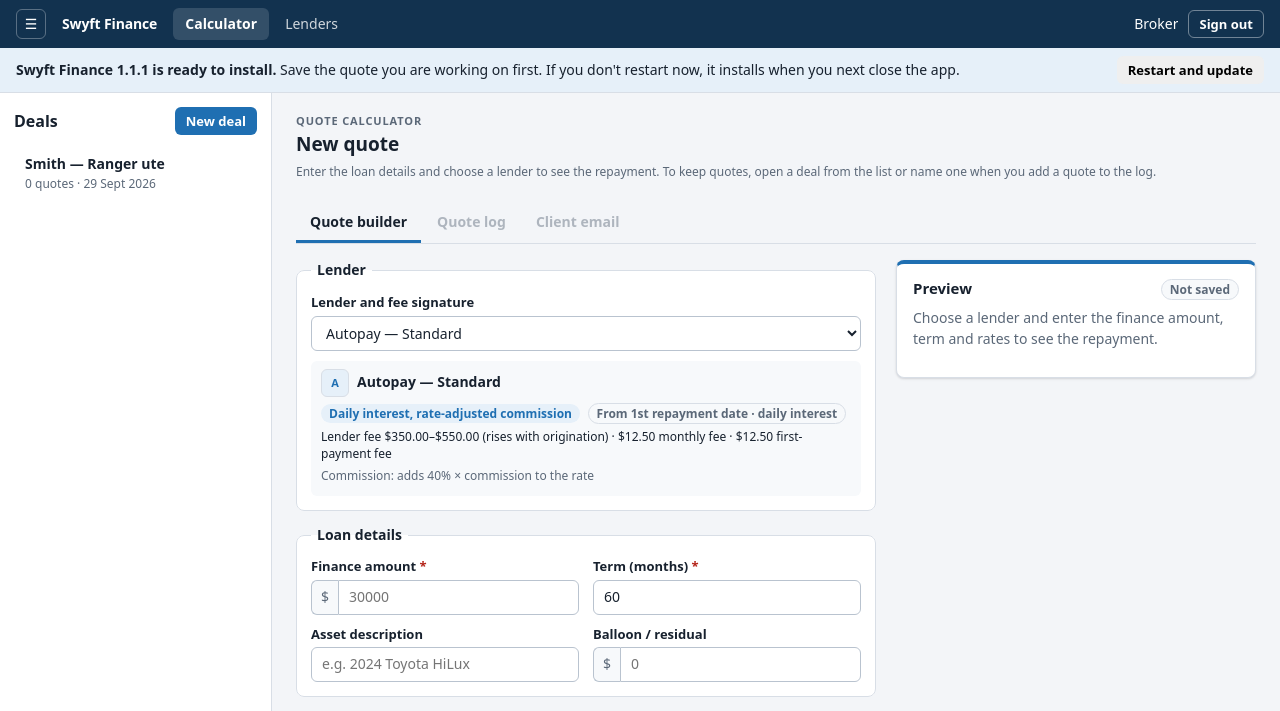
Test case: application menu commands › shows a downloaded update and installs it only when asked
Expected: the heading "New quote" is shown, [296,131,399,157]
Expected: the text "Swyft Finance 1.1.1 is ready to install." is shown, [16,60,276,79]
Click the button "Restart and update" at coordinates (1190, 70), box [1117,56,1264,84]
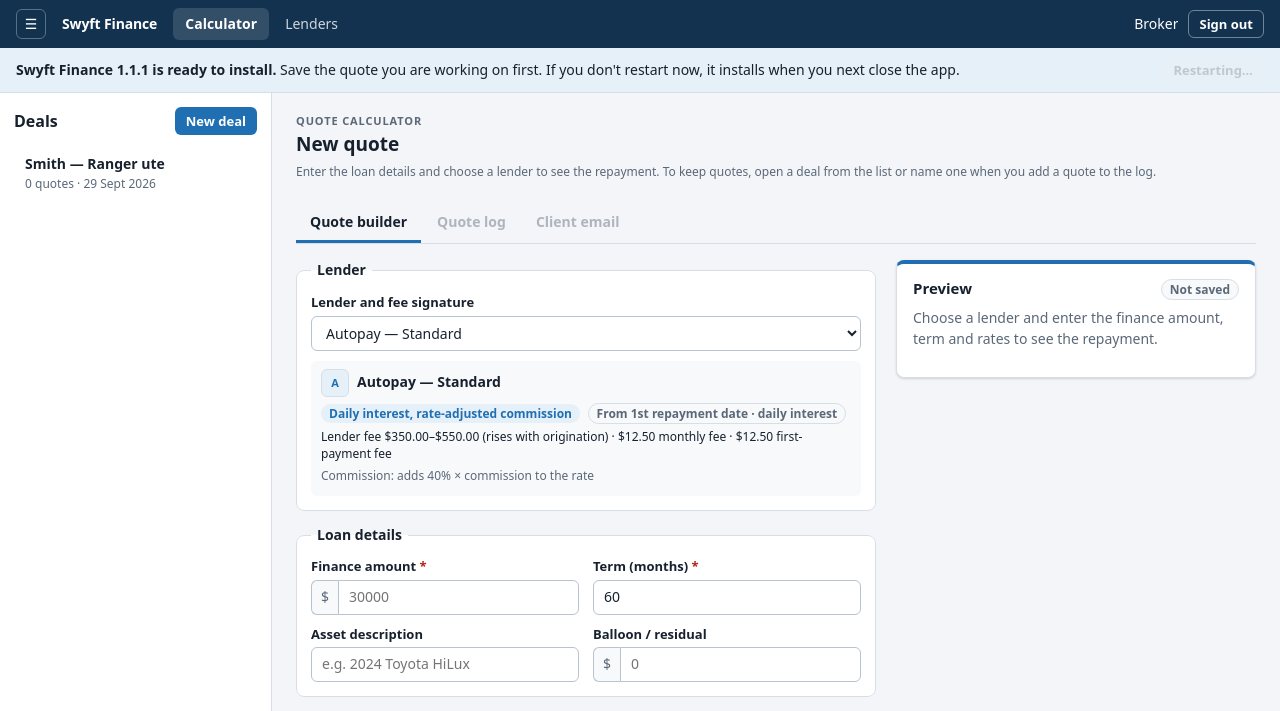
Now the button "Restarting…" is disabled, box [1162,56,1264,84]
